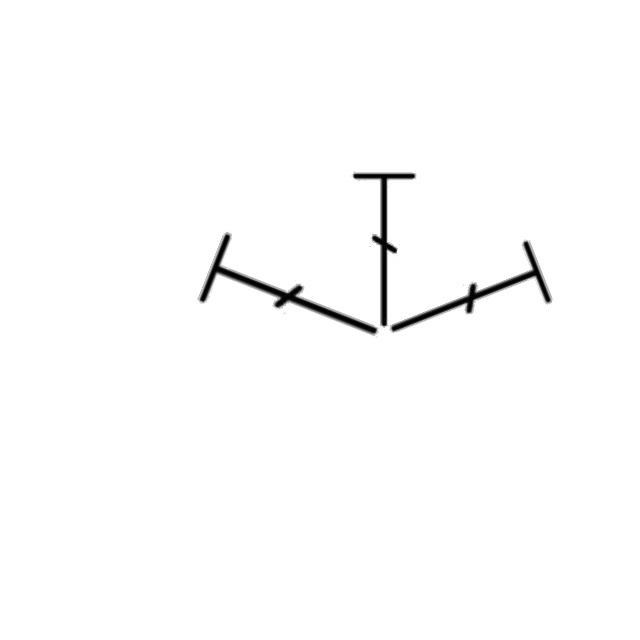chain: (190, 224, 400, 371), (371, 235, 560, 367), (350, 166, 420, 333)
